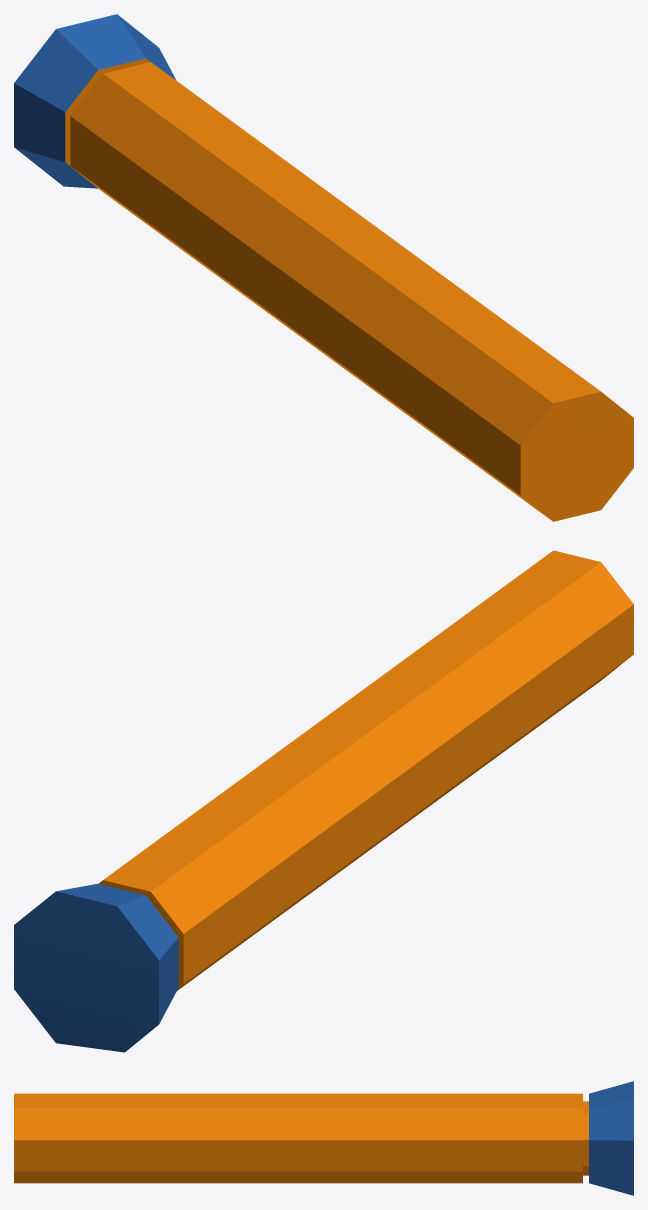
Rendered from nerfbullet.FBX.
3 views of the same model, one above another, from view 1: azimuth 30°, elevation 25°; view 2: azimuth 150°, elevation 25°; view 3: azimuth 270°, elevation 25° (orthographic). The views are drawn at different scales.
Visible parts, largest first — view 1: Box001; view 2: Box001; view 3: Box001.
Boxes of the visible parts, x1=… form: Box001: x1=14, y1=14, x2=633, y2=521; Box001: x1=14, y1=550, x2=633, y2=1052; Box001: x1=14, y1=1081, x2=633, y2=1195.
Bounding box in the file's own units: 25.21 × 25.21 × 148.
Materials: 1 (1 with a texture image).
